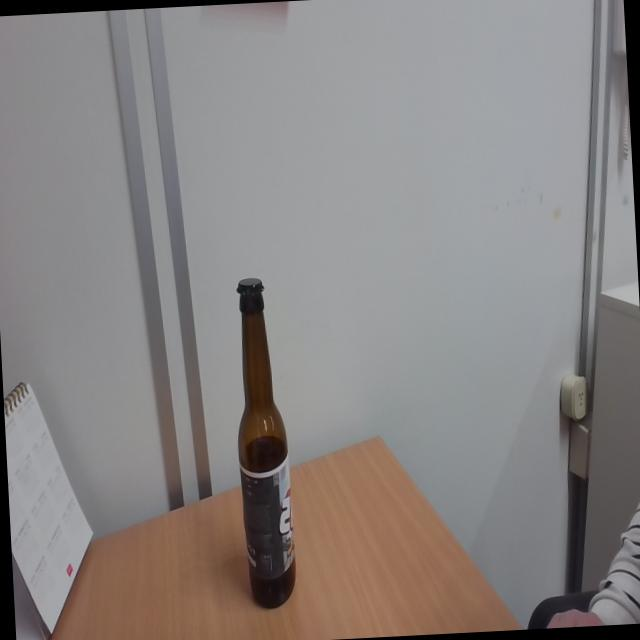Bottle: (230, 274, 300, 612)
Cap: (234, 274, 269, 300)
Label: (242, 457, 295, 580)
